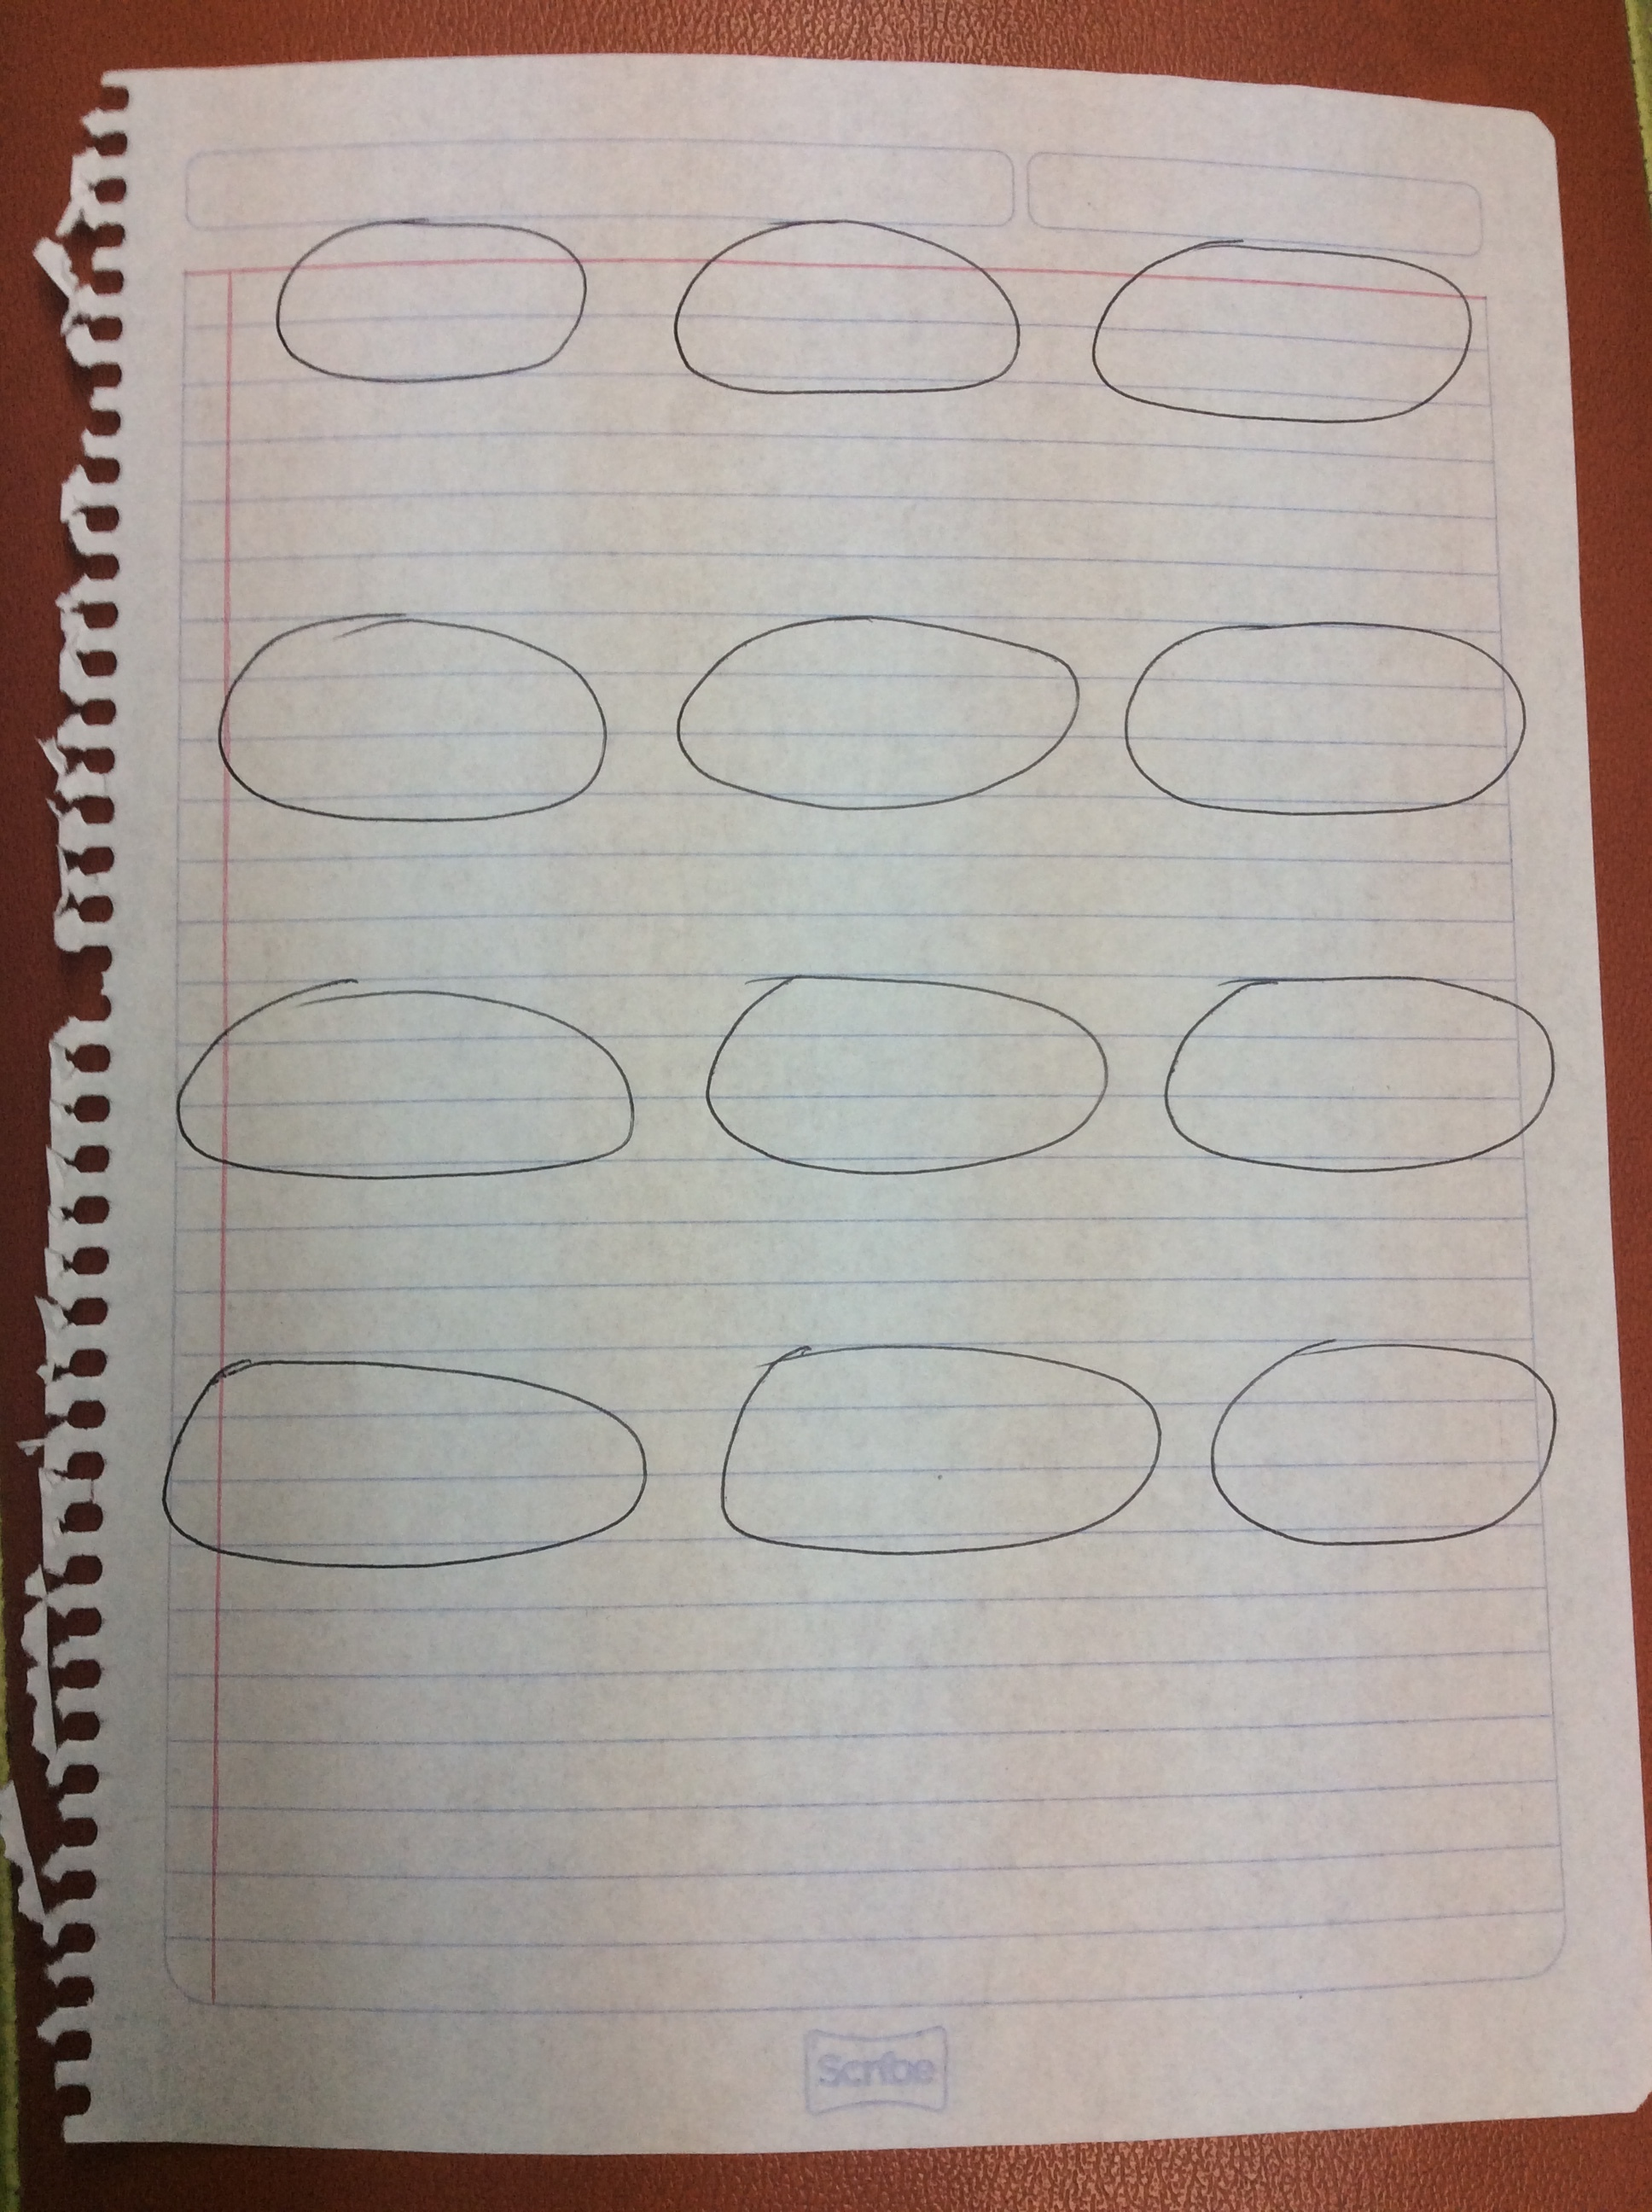start_end: (139, 1312, 665, 1580), (691, 1305, 1170, 1574), (149, 963, 651, 1202), (1142, 932, 1579, 1206), (179, 578, 623, 847), (1097, 564, 1541, 826), (687, 939, 1124, 1188), (647, 586, 1090, 833), (1067, 194, 1491, 451), (1180, 1305, 1590, 1560), (640, 191, 1032, 448), (252, 201, 606, 402)
